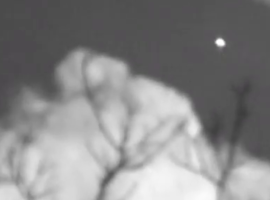Target: (215, 39, 225, 47)
